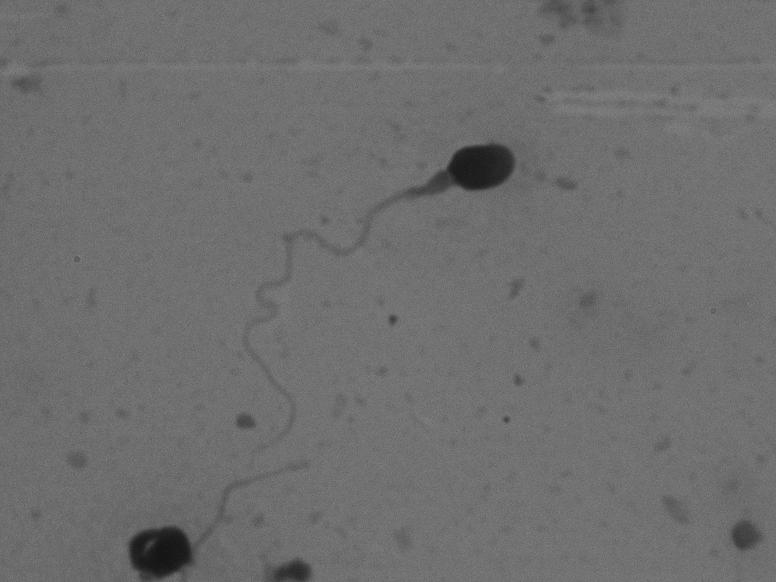Abnormal: (153, 91, 569, 474), (100, 466, 299, 578)
